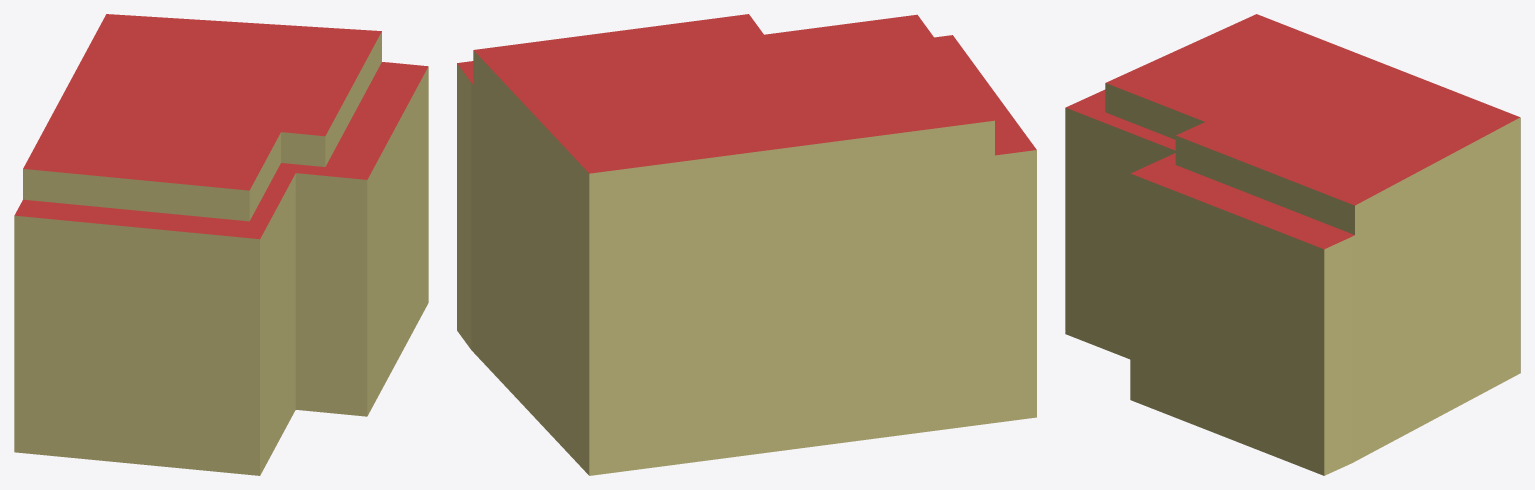
3 views of the same model, side by side, from view 1: azimuth 30°, elevation 25°; view 2: azimuth 150°, elevation 25°; view 3: azimuth 270°, elevation 25° (orthographic). The views are drawn at different scales.
Visible parts, largest first — view 1: group_7, group_3, group_6, group_4; view 2: group_4, group_3, group_7, group_6; view 3: group_7, group_4, group_3, group_6.
Boxes of the visible parts, bbox=[...] form: group_7: bbox=[14, 66, 428, 475]; group_3: bbox=[23, 14, 381, 190]; group_6: bbox=[14, 62, 428, 239]; group_4: bbox=[23, 31, 381, 221]; group_4: bbox=[473, 50, 994, 475]; group_3: bbox=[474, 14, 994, 173]; group_7: bbox=[457, 63, 1036, 422]; group_6: bbox=[457, 35, 1036, 155]; group_7: bbox=[1065, 107, 1354, 475]; group_4: bbox=[1105, 83, 1520, 461]; group_3: bbox=[1106, 14, 1519, 205]; group_6: bbox=[1066, 89, 1354, 249].
Size of the model in its own units: 30.25 by 26.85 by 16.68.
